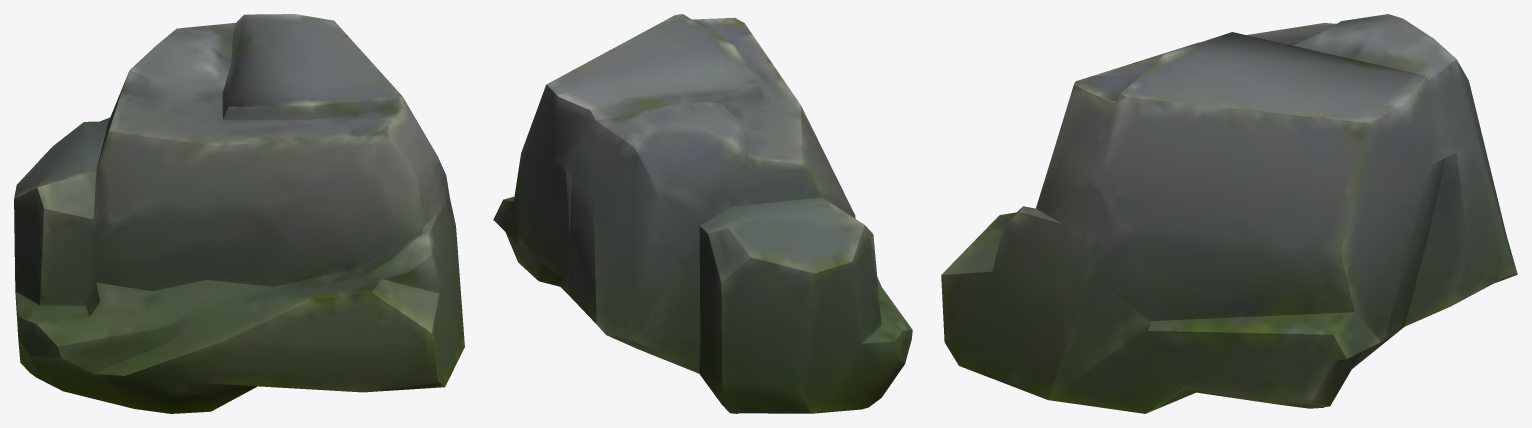
The model's file is rock_granite_c.glb.
3 renders of one model, left to right at view 1: azimuth 30°, elevation 25°; view 2: azimuth 150°, elevation 25°; view 3: azimuth 270°, elevation 25°, orthographic. The views are drawn at different scales.
Visible parts, largest first — view 1: Rock_Medium_3; view 2: Rock_Medium_3; view 3: Rock_Medium_3.
Boxes of the visible parts, x1=… form: Rock_Medium_3: x1=14, y1=14, x2=464, y2=413; Rock_Medium_3: x1=493, y1=14, x2=912, y2=413; Rock_Medium_3: x1=941, y1=14, x2=1517, y2=413.
Bounding box in the file's own units: 3.42 × 2.32 × 3.48.
1 material, 1 textured.
